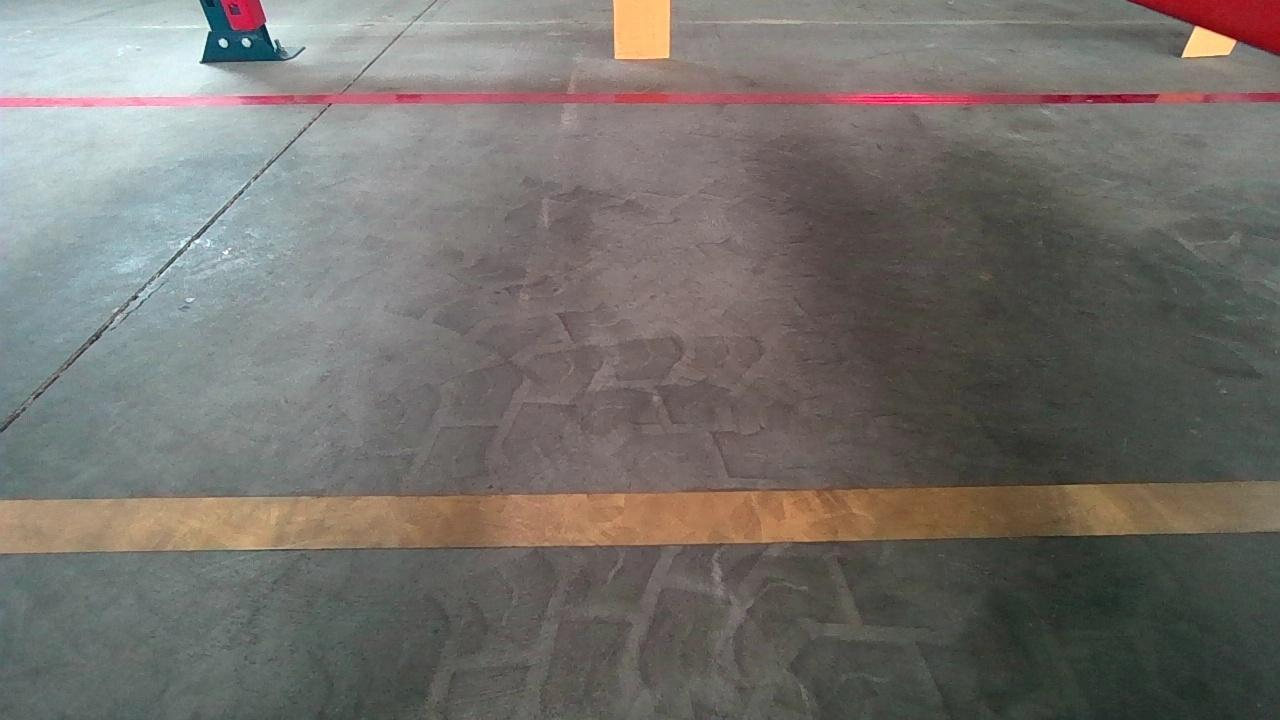orange_strip: (614, 0, 672, 59), (1178, 13, 1247, 59)
red_line: (12, 78, 1278, 111)
yellow_line: (7, 480, 1268, 555)
